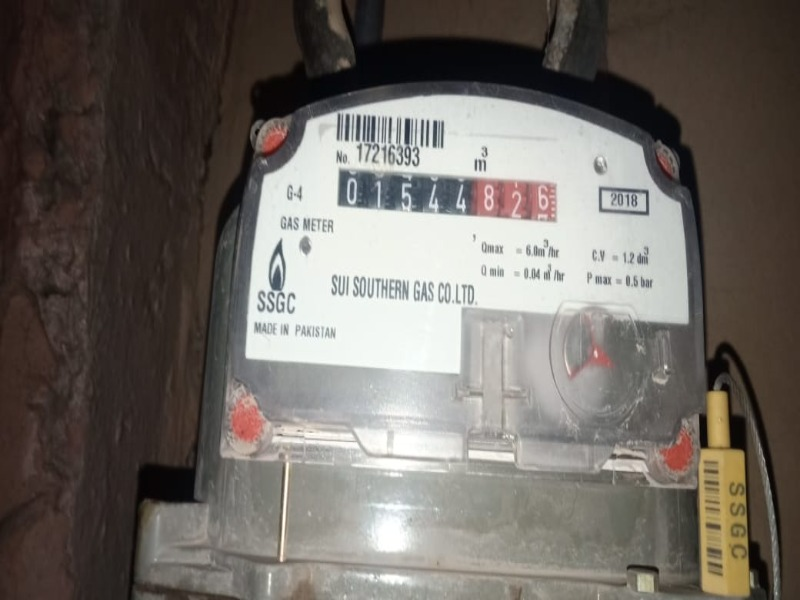ssgc: (333, 164, 559, 222)
